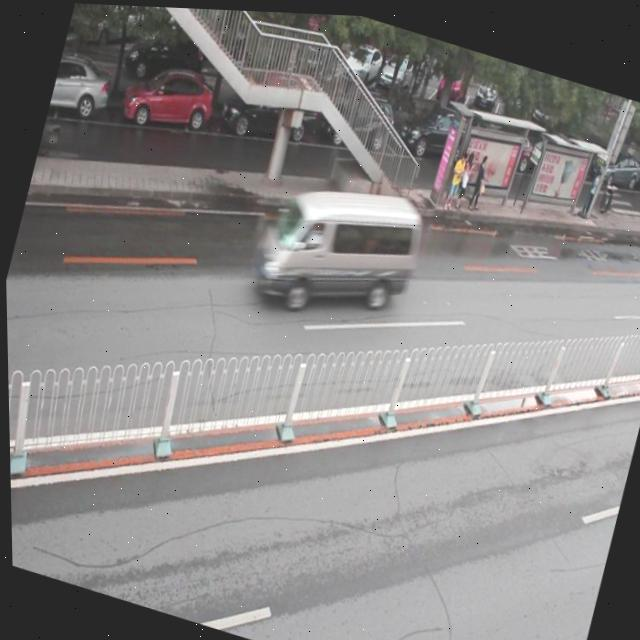car: (214, 63, 320, 155), (116, 53, 218, 145), (392, 90, 479, 170), (317, 79, 398, 157), (45, 54, 113, 129)
truck: (243, 160, 428, 333)
